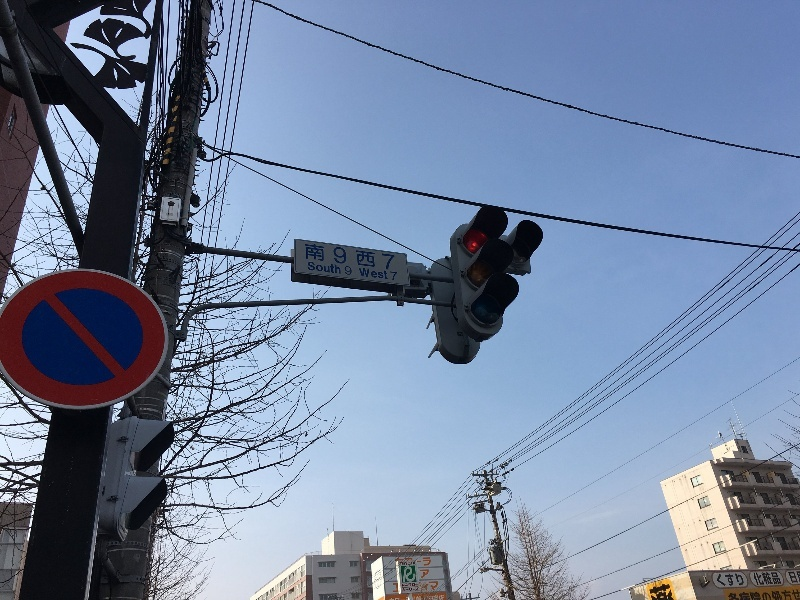text: (305, 243, 320, 262), (657, 582, 672, 600), (337, 261, 353, 276), (402, 566, 416, 583), (356, 249, 368, 268), (321, 261, 336, 276), (721, 573, 736, 588), (385, 253, 397, 271), (369, 267, 384, 281), (753, 572, 768, 586), (337, 246, 348, 265), (769, 572, 783, 586), (385, 267, 398, 281), (308, 261, 320, 276), (737, 589, 752, 600), (753, 589, 768, 600), (769, 589, 784, 600), (785, 589, 800, 600), (788, 571, 800, 584), (358, 267, 368, 281), (737, 573, 746, 588), (369, 249, 376, 268), (649, 582, 656, 600), (401, 558, 413, 568), (417, 558, 431, 566), (421, 582, 432, 592), (420, 570, 432, 579), (727, 589, 736, 600), (321, 243, 326, 262), (417, 595, 432, 600), (393, 583, 400, 593), (402, 583, 416, 588), (402, 588, 416, 593), (401, 562, 416, 566), (433, 595, 445, 600), (716, 573, 720, 588), (333, 246, 336, 265), (395, 558, 400, 568), (433, 582, 438, 592), (673, 582, 675, 600), (382, 253, 384, 271), (389, 597, 400, 600), (401, 597, 408, 600), (412, 595, 416, 600), (417, 588, 419, 593), (417, 583, 418, 588)
